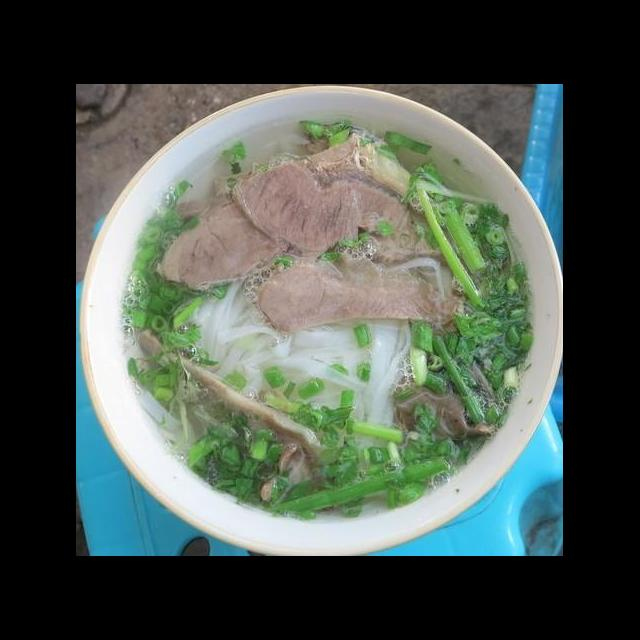banh pho: (176, 285, 420, 434)
pho bo: (77, 109, 549, 553)
thit bo: (124, 328, 336, 506), (228, 157, 444, 269), (252, 250, 454, 339), (154, 199, 282, 292), (386, 377, 500, 447)
